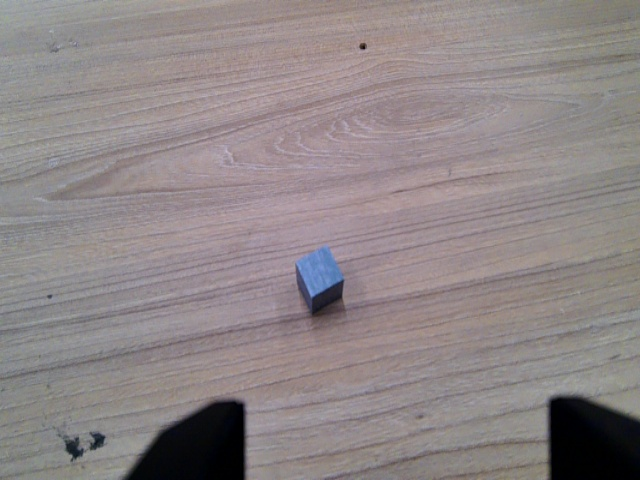stone: (290, 246, 346, 316)
